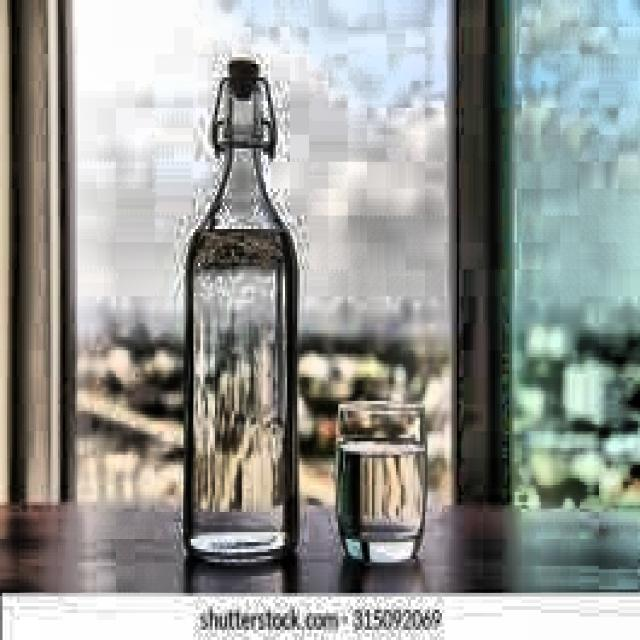Bottle: (181, 54, 300, 566)
